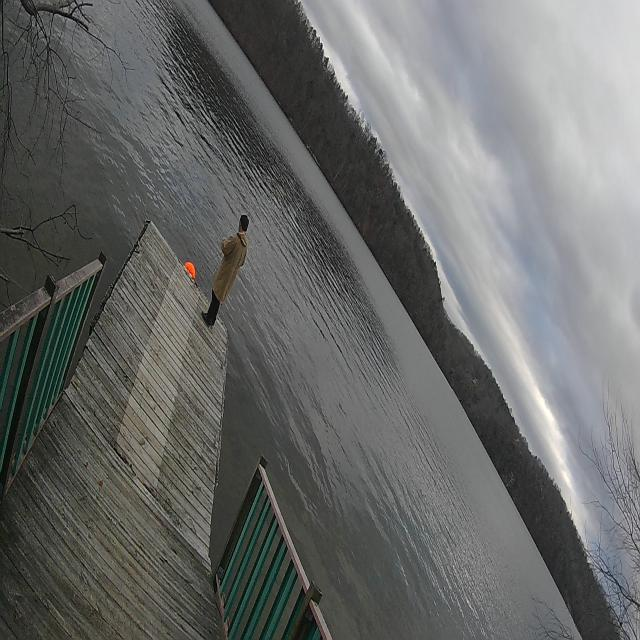Buoy: (182, 252, 199, 285)
